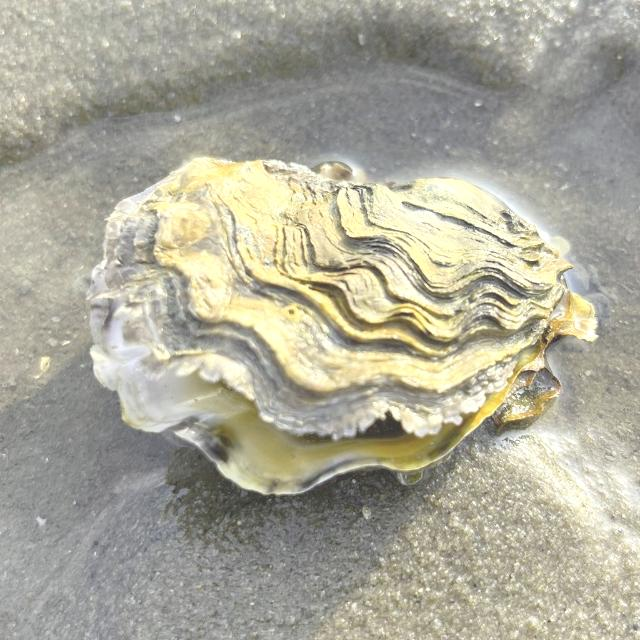Oyster-Open: (83, 154, 594, 498)
